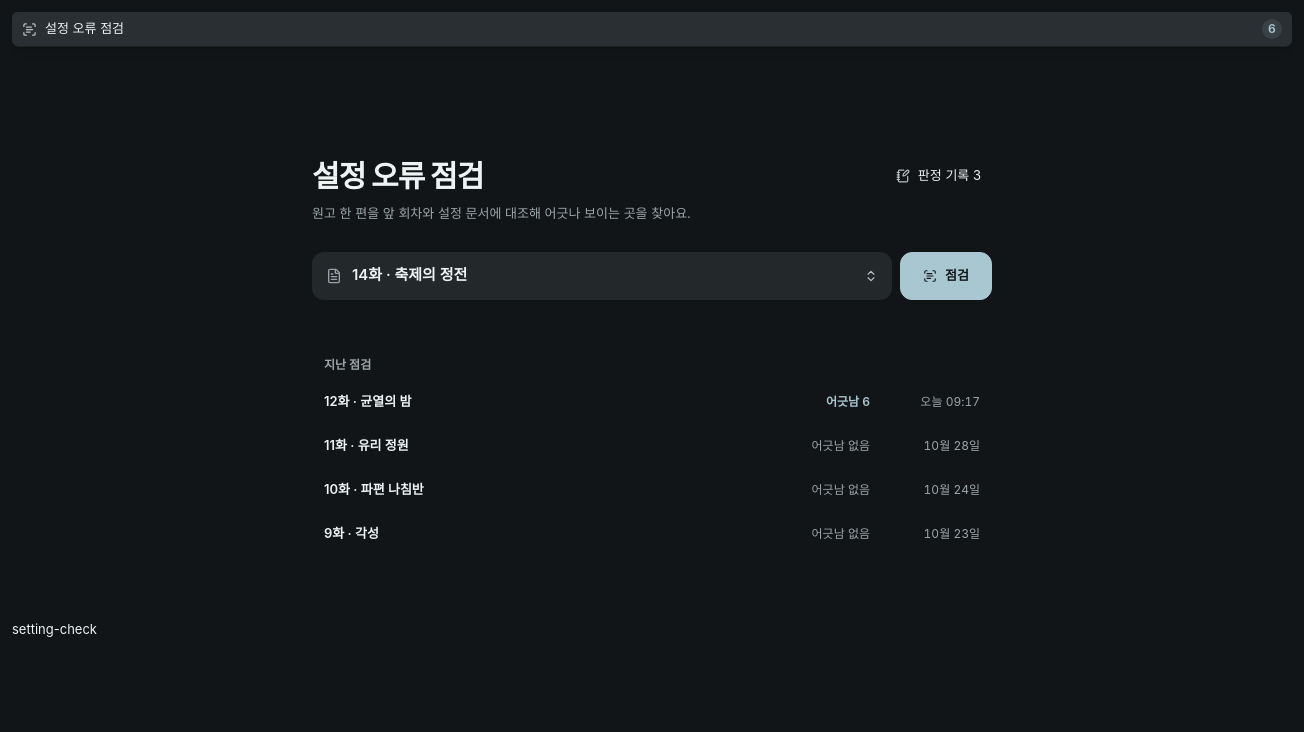
Test: setting check view › keeps the project's verdicts in a ledger that can undo them
Click the button "판정 기록 3": (938, 176) 885,161 -> 992,191
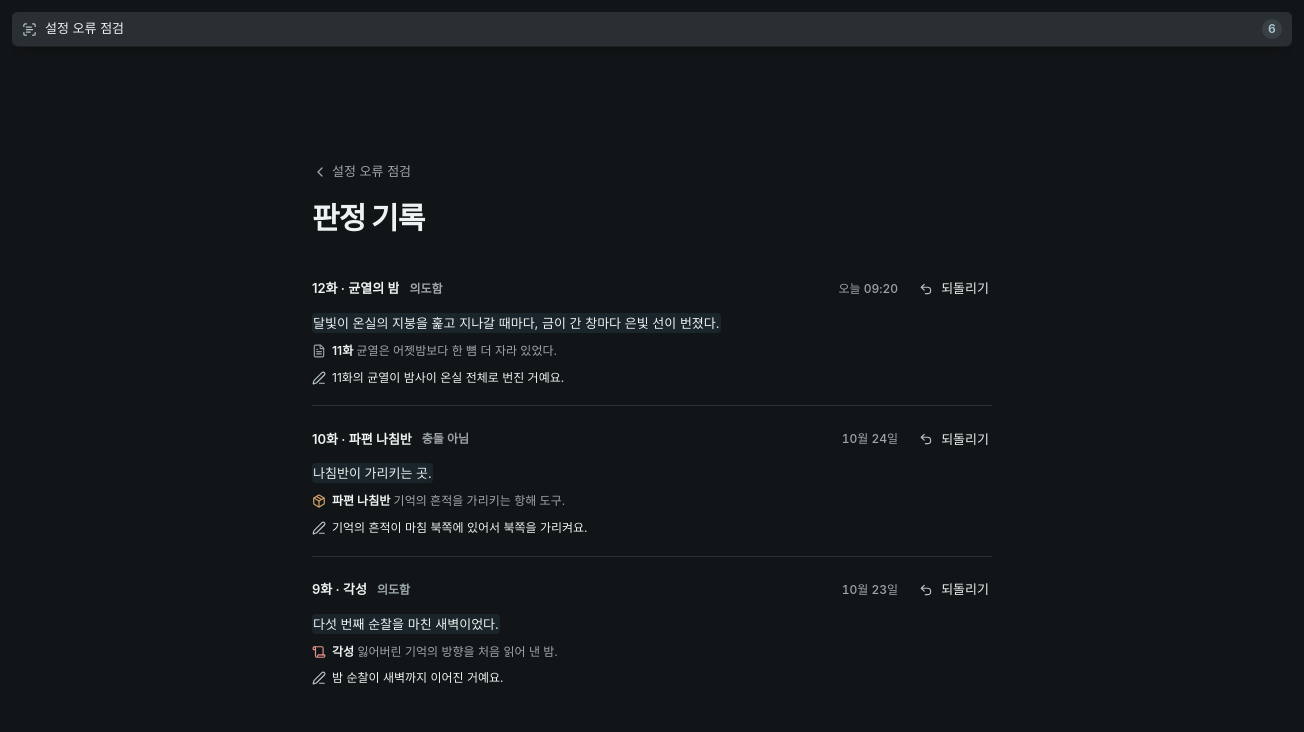
Expected: the heading "판정 기록" is shown, 312,200 -> 424,236
Expected: the list item that starts with "12화 · 균열의 밤" shows "11화의 균열이 밤사이 온실 전체로 번진 거예요.", 332,370 -> 564,385
Click the button with aria-label "12화 · 균열의 밤에서 보기": (652, 323) 306,309 -> 998,337
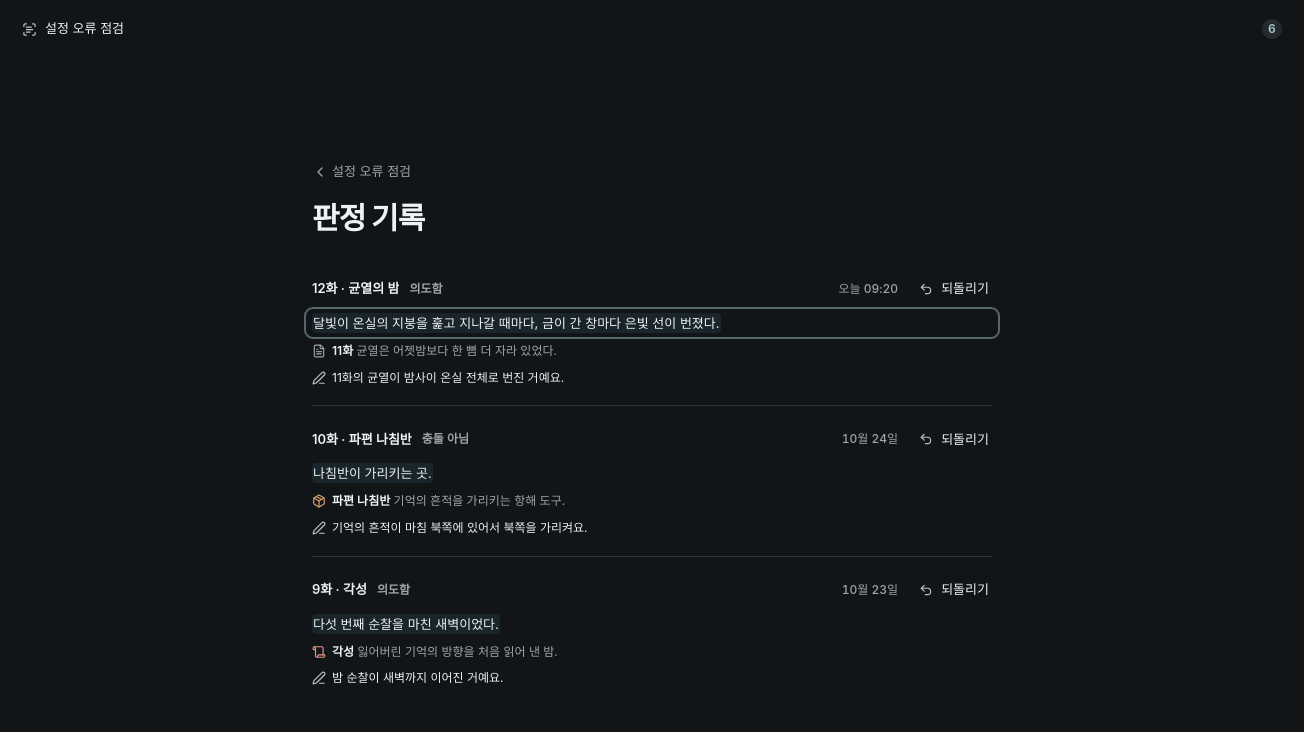
Click the button "되돌리기" next to "오늘 09:20": (954, 289) 908,274 -> 1000,304
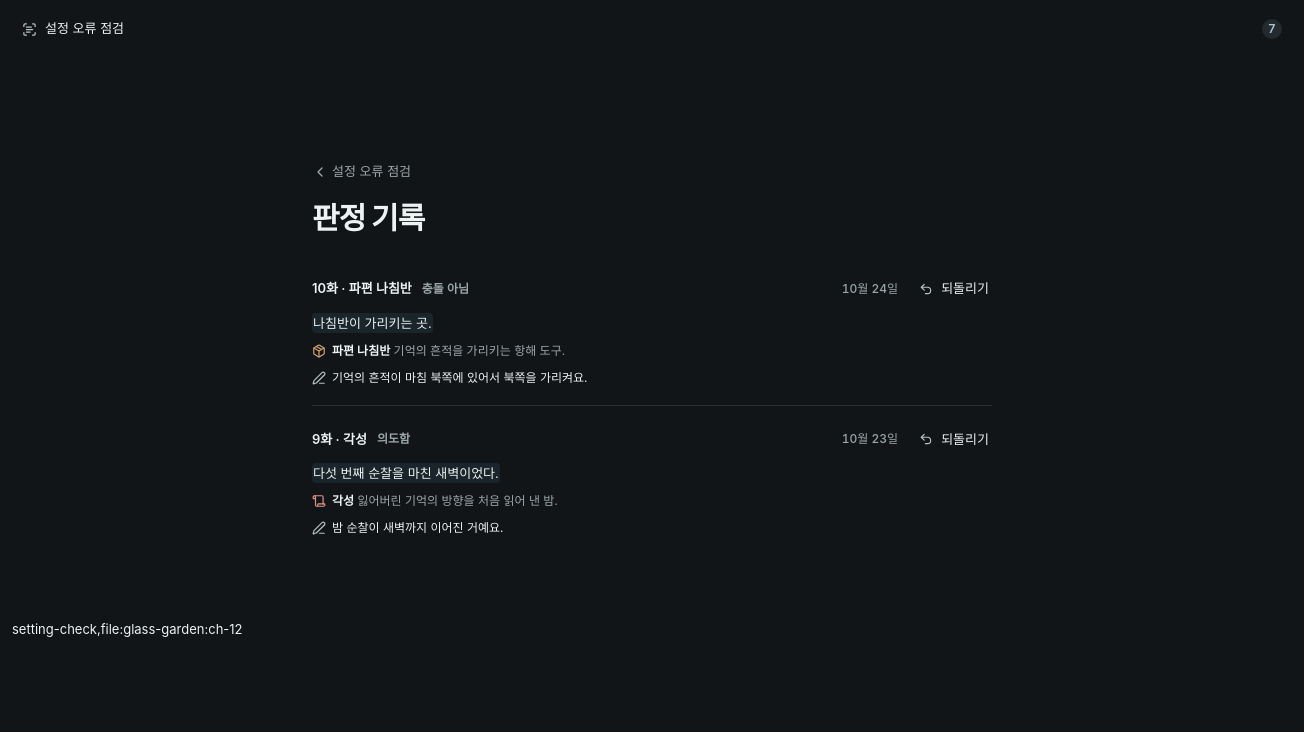
Expected: the number of list items is 2, 312,256 -> 992,405; 312,405 -> 992,556
Click the button "설정 오류 점검": (364, 172) 308,158 -> 419,186
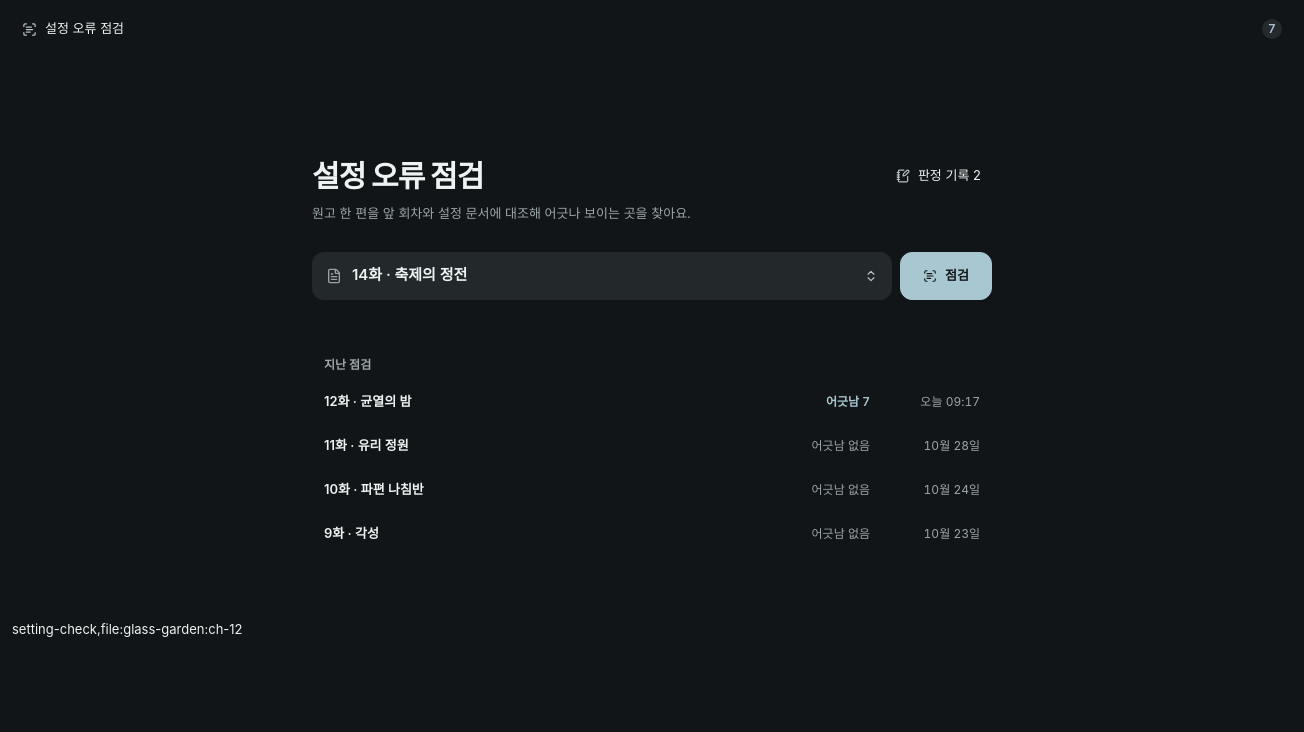
Expected: the button "판정 기록 2" is shown, 885,161 -> 992,191
Expected: the button named "12화 · 균열의 밤어긋남 7" is shown, 312,380 -> 992,424
